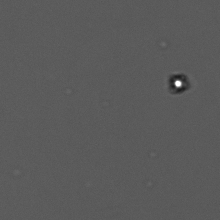Living Cell: (165, 70, 193, 96)
